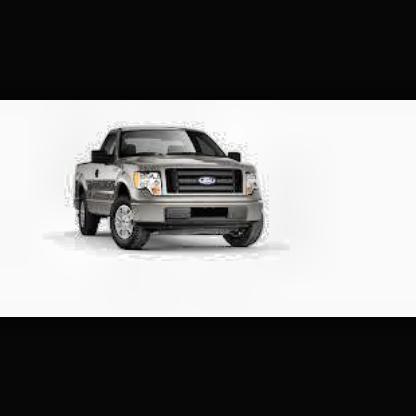Ford F-150 Regular Cab 2012: (74, 124, 269, 259)
